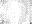person: (1, 9, 4, 13)
